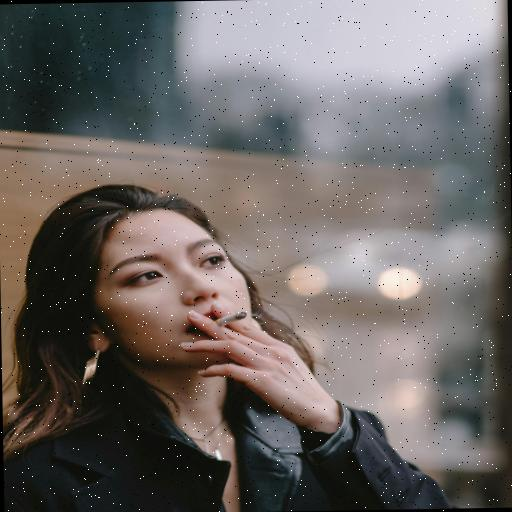terdeteksi merokok: (142, 226, 271, 364)
